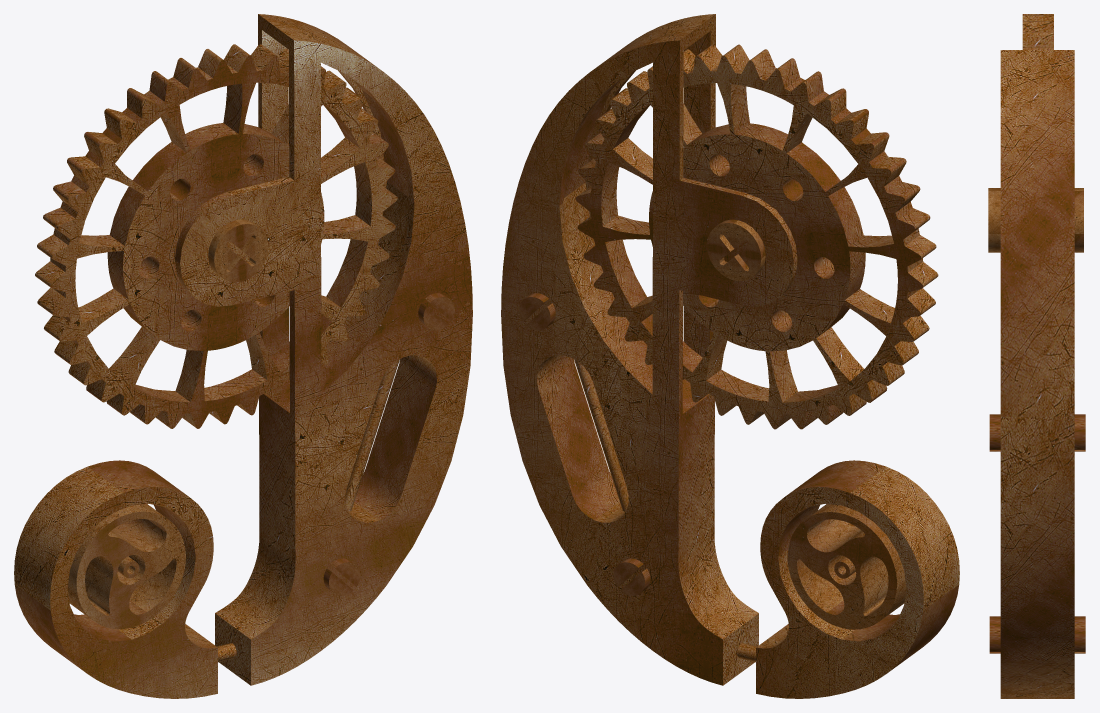
The picture shows the model from 3 angles, left to right: view 1: azimuth 30°, elevation 25°; view 2: azimuth 150°, elevation 25°; view 3: azimuth 270°, elevation 25°; orthographic projection. The views are drawn at different scales.
Parts seen in each view (by area): view 1: 028, Cogwheel_365, Cogwheel_240, Screw_724, Tube_610, Screw_728, Screw_723; view 2: 028, Cogwheel_365, Cogwheel_240, Screw_724, Tube_610, Screw_728, Screw_723; view 3: 028, Screw_724, Cogwheel_365, Screw_728, Screw_723.
Part boxes in pixels (left/top/right/bottom): 028: left=14, top=14, right=472, bottom=698; Cogwheel_365: left=35, top=44, right=397, bottom=428; Cogwheel_240: left=67, top=504, right=185, bottom=629; Screw_724: left=208, top=219, right=268, bottom=282; Tube_610: left=345, top=359, right=399, bottom=511; Screw_728: left=418, top=293, right=454, bottom=330; Screw_723: left=323, top=558, right=360, bottom=595; 028: left=501, top=14, right=959, bottom=698; Cogwheel_365: left=575, top=44, right=938, bottom=429; Cogwheel_240: left=787, top=504, right=906, bottom=629; Screw_724: left=707, top=208, right=791, bottom=281; Tube_610: left=574, top=359, right=628, bottom=511; Screw_728: left=519, top=293, right=555, bottom=330; Screw_723: left=613, top=558, right=650, bottom=595; 028: left=1000, top=50, right=1074, bottom=698; Screw_724: left=988, top=188, right=1083, bottom=252; Cogwheel_365: left=1022, top=14, right=1053, bottom=49; Screw_728: left=989, top=414, right=1085, bottom=451; Screw_723: left=989, top=616, right=1085, bottom=653.
Size of the model in its own units: 67.66 by 97.08 by 13.08.
1 material, 1 textured.
